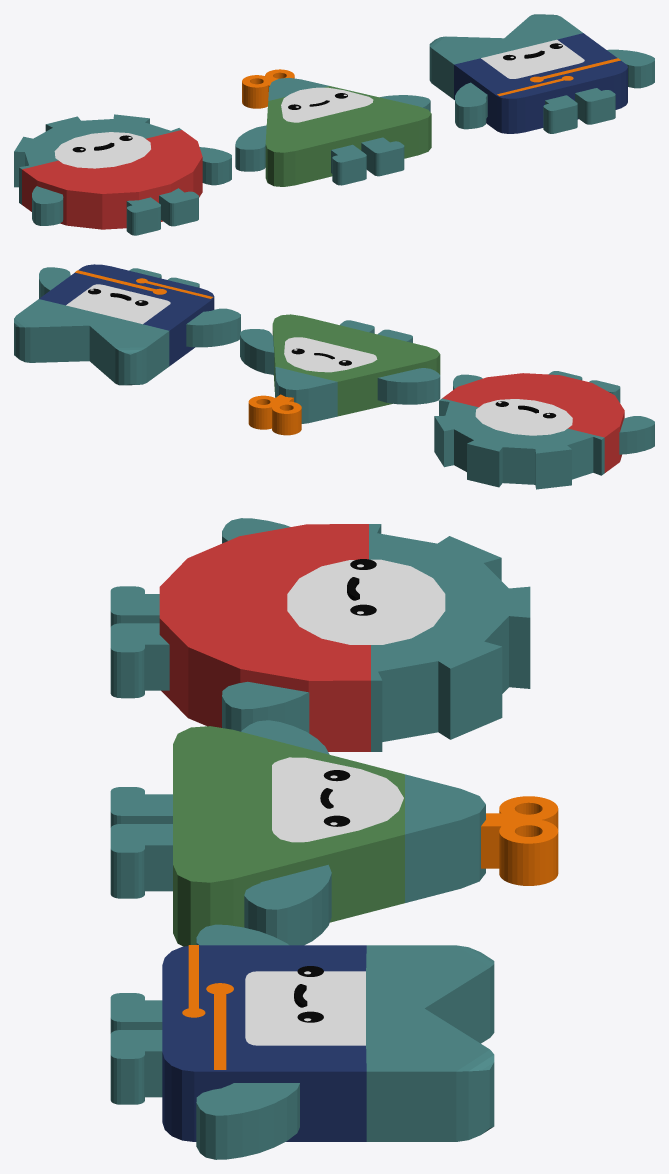
The model's file is Mascot.fbx.
The picture shows the model from 3 angles, top to bottom: view 1: azimuth 30°, elevation 25°; view 2: azimuth 150°, elevation 25°; view 3: azimuth 270°, elevation 25°; orthographic projection. The views are drawn at different scales.
Parts seen in each view (by area): view 1: An, Bak, San, Foot.003, Arm, Foot.001, Foot.002, Arm.002, Foot.005, Foot.004, Foot, SanHead (+5 smaller); view 2: An, Bak, San, Arm.002, SanHead, Arm, Arm.004, Arm.003, Arm.001, BakLine; view 3: An, Bak, San, Arm.001, SanHead, Arm.004, Foot.003, Foot.005, Foot.001, Arm.005, Foot.002, Foot (+5 smaller).
Part boxes in pixels (box(x1,y1,x2,y2)): An: box(14, 114, 202, 229); Bak: box(429, 14, 627, 133); San: box(265, 78, 431, 186); Foot.003: box(361, 137, 404, 176); Arm: box(455, 82, 487, 129); Foot.001: box(575, 88, 615, 124); Foot.002: box(331, 144, 366, 185); Arm.002: box(235, 125, 266, 171); Foot.005: box(159, 188, 198, 226); Foot.004: box(126, 197, 160, 235); Foot: box(543, 95, 577, 133); SanHead: box(242, 69, 294, 108); An: box(434, 373, 624, 489); Bak: box(14, 264, 214, 385); San: box(272, 314, 440, 423); Arm.002: box(377, 368, 440, 404); SanHead: box(248, 394, 301, 435); Arm: box(186, 308, 240, 347); Arm.004: box(240, 329, 274, 374); Arm.003: box(619, 416, 654, 454); Arm.001: box(39, 267, 70, 298); BakLine: box(75, 270, 166, 294); An: box(159, 524, 530, 751); Bak: box(162, 945, 494, 1141); San: box(173, 726, 485, 946); Arm.001: box(196, 1083, 299, 1159); SanHead: box(481, 796, 558, 885); Arm.004: box(244, 864, 331, 945); Foot.003: box(110, 824, 172, 898); Foot.005: box(110, 623, 169, 698); Foot.001: box(110, 1030, 162, 1104); Arm.005: box(222, 681, 309, 732); Foot.002: box(110, 787, 172, 827); Foot: box(110, 993, 162, 1033).
Size of the model in its own units: 246 by 16.48 by 77.87.
